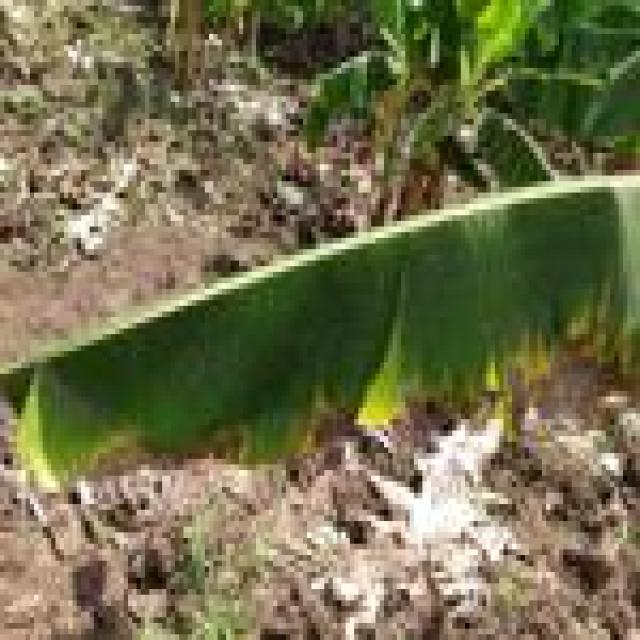Early_rust: (29, 192, 630, 538)
